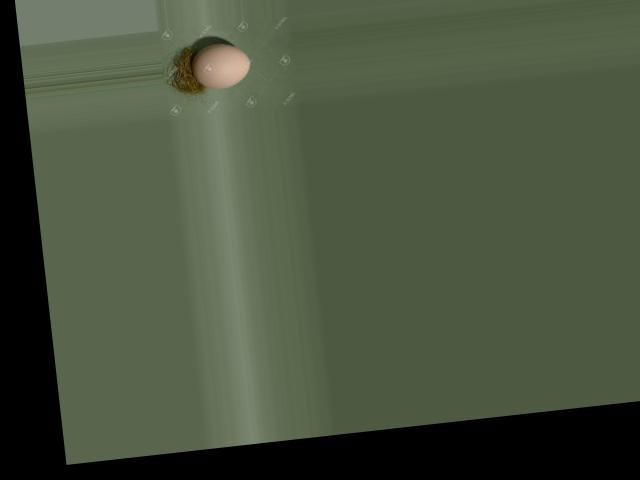egg: (190, 40, 252, 90)
